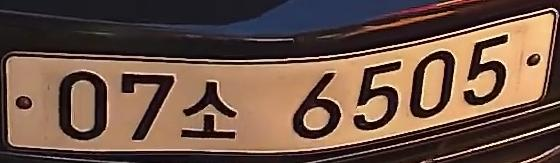0: (54, 64, 113, 144), (407, 48, 457, 119)
5: (351, 59, 403, 131), (464, 34, 508, 105)
6: (282, 68, 345, 141)
7: (118, 71, 178, 145)
소: (179, 75, 248, 149)
